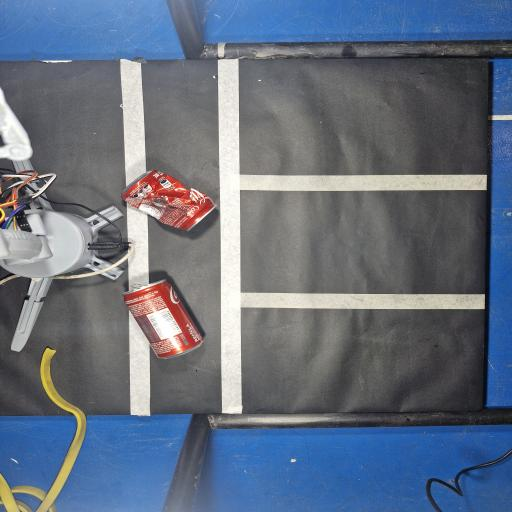lata: (124, 280, 203, 358)
lata_defectuoso: (122, 171, 216, 230)
